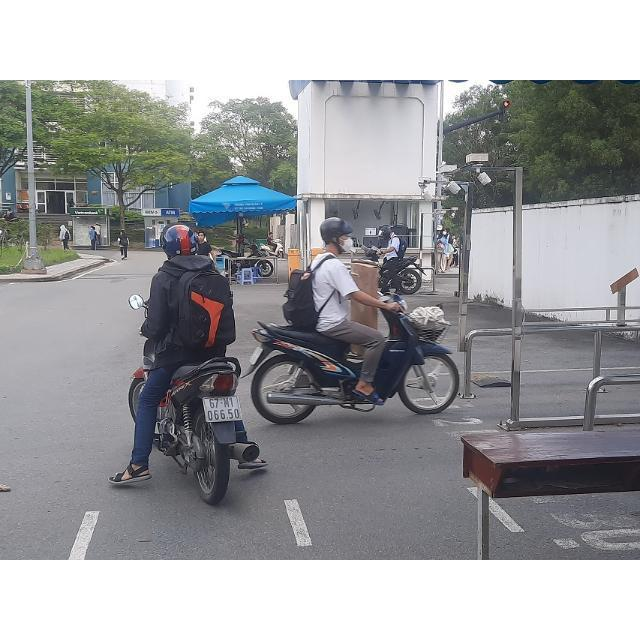Helmet: (318, 217, 358, 256), (160, 222, 198, 262)
